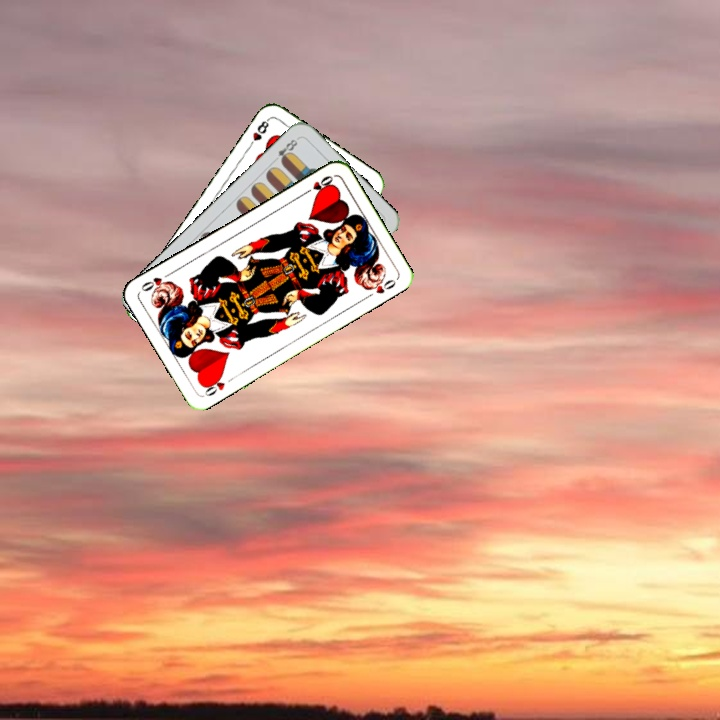E8: (269, 135, 302, 166)
H8: (244, 115, 272, 151)
HO: (299, 171, 336, 198), (199, 372, 227, 399)
